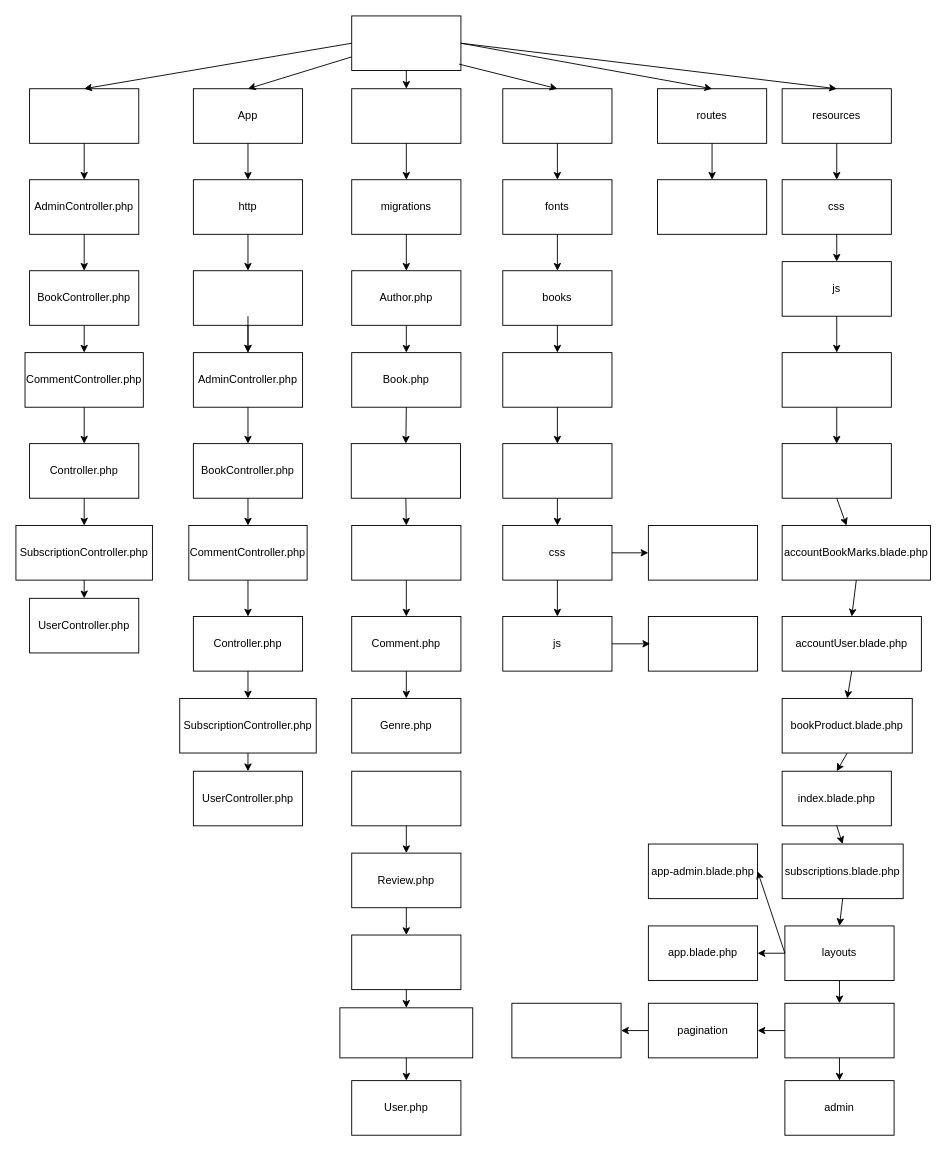
The diagram is 946 pixels wide and 1151 high, and some of its shapes have lost their labels. Here are the shapes that lost their labels. From the top down, the box of each, then its label:
(351, 15, 461, 71): sait
(29, 88, 139, 143): Models
(351, 88, 461, 143): database
(502, 88, 612, 143): public
(657, 179, 767, 234): web
(192, 270, 303, 325): controllers
(502, 352, 612, 407): img
(781, 352, 891, 407): views
(350, 443, 460, 498): BookMark.php
(502, 443, 612, 498): index.php
(781, 443, 891, 498): account.blade.php
(351, 525, 461, 580): Category.php
(647, 525, 758, 580): style.css
(647, 616, 758, 671): index.js
(351, 770, 461, 826): Publication.php
(351, 934, 461, 990): Subscription.php
(339, 1007, 473, 1058): TypeSubscription.php
(511, 1002, 621, 1058): custom.blade.php
(784, 1002, 894, 1058): vendor
